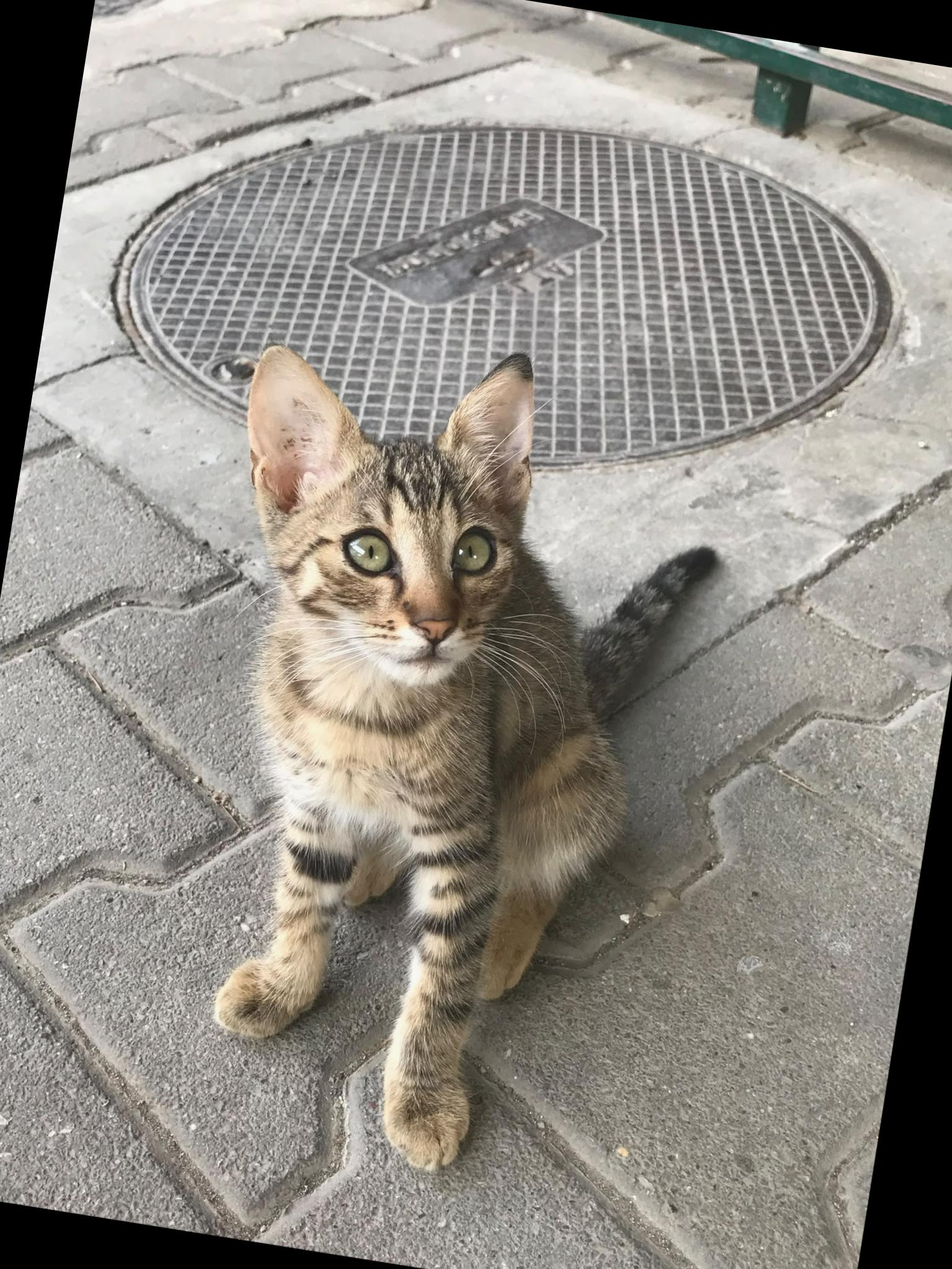macka: (126, 305, 750, 1207)
